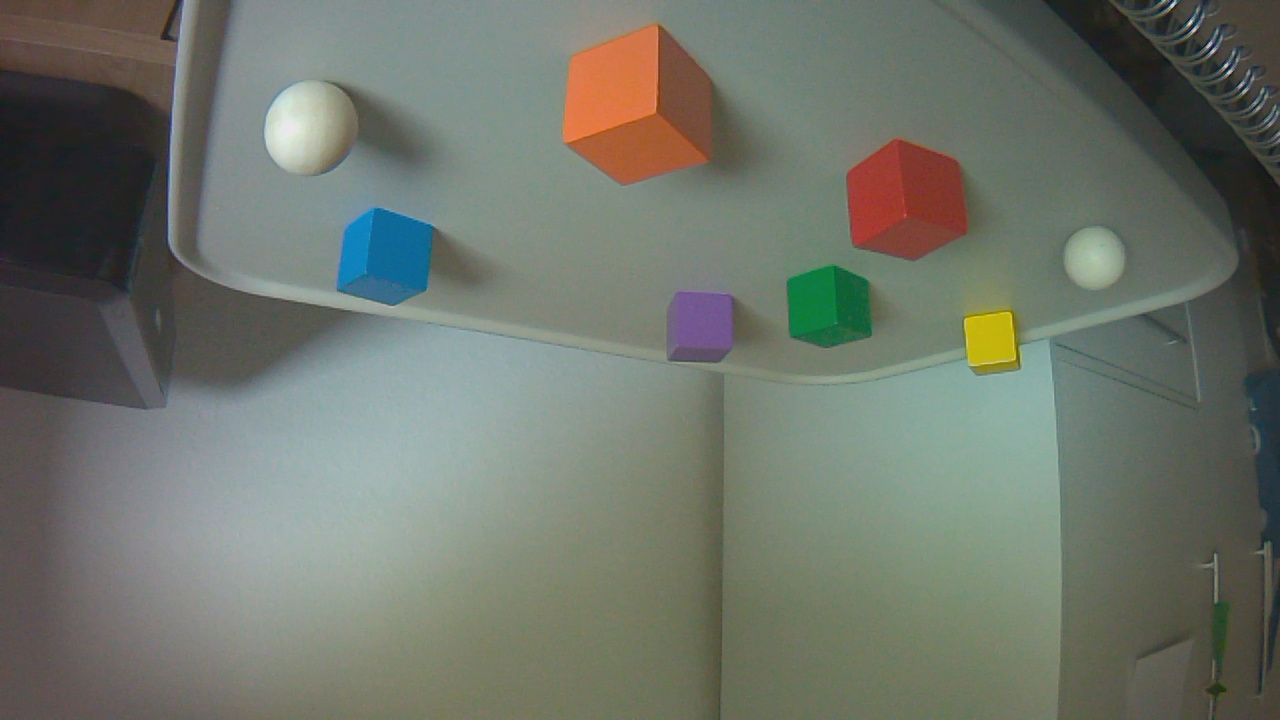ball: (265, 82, 368, 183), (1067, 228, 1133, 299)
cube_blue: (334, 212, 443, 312)
cube_green: (789, 267, 879, 355)
cube_orange: (566, 28, 719, 193)
cube_purple: (664, 296, 742, 369)
cube_red: (849, 141, 976, 267)
cube_yellow: (966, 312, 1028, 383)
